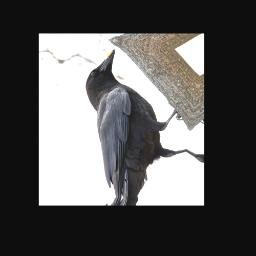Crow: (67, 46, 202, 205)
